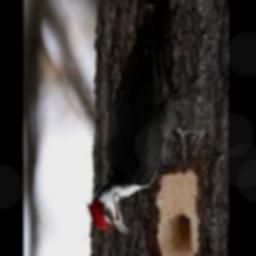Woodpecker: (87, 0, 194, 235)
